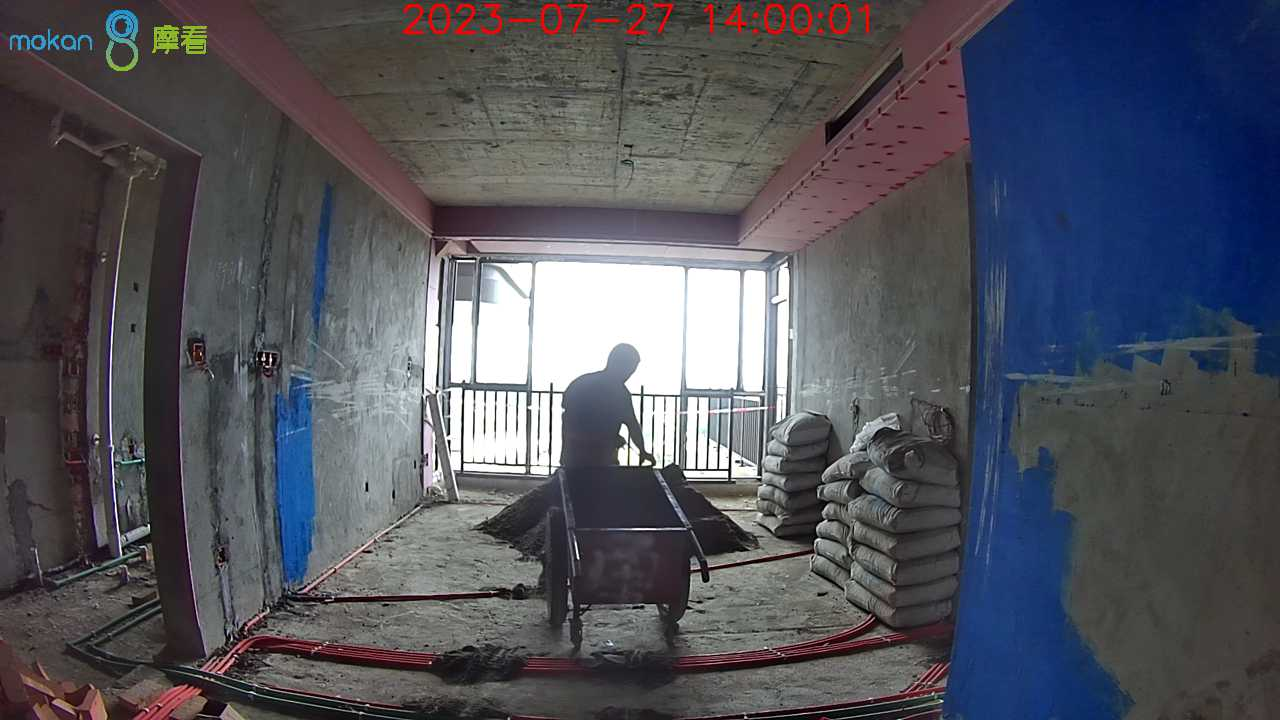people: (548, 341, 659, 477)
window: (438, 252, 778, 482)
